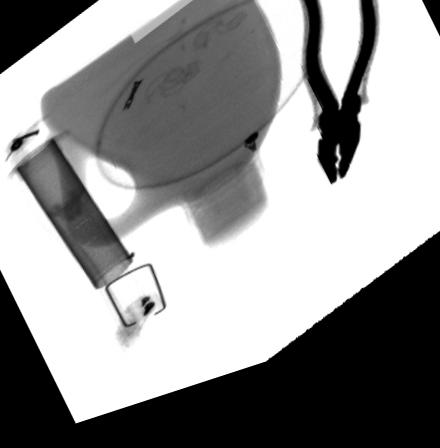Pliers: (298, 0, 382, 208)
